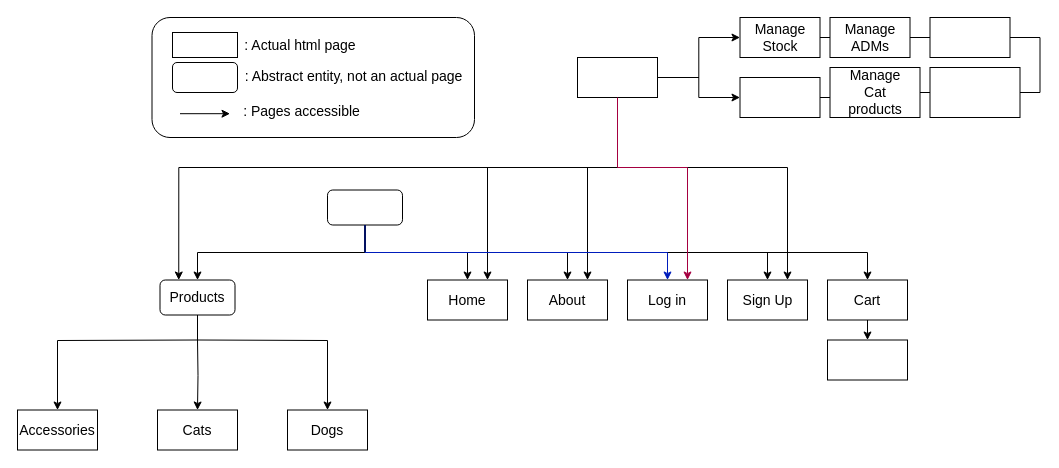
This 1059x468 diagram has some shape labels left out. The shapes that lost their labels are listed below. From the top down, each one's box as (x1, y1, x2, y2) in pixels, then its label:
(929, 16, 1010, 58): Manage Costumers
(576, 56, 658, 98): ADM
(739, 76, 820, 118): Manage Accessories
(929, 66, 1020, 118): Manage Dogs products
(326, 189, 402, 225): User
(826, 339, 908, 380): Checkout
